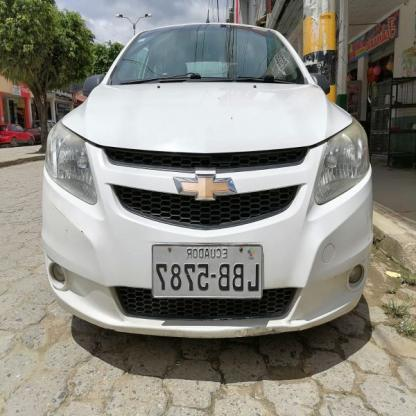Placa: (149, 240, 266, 300)
